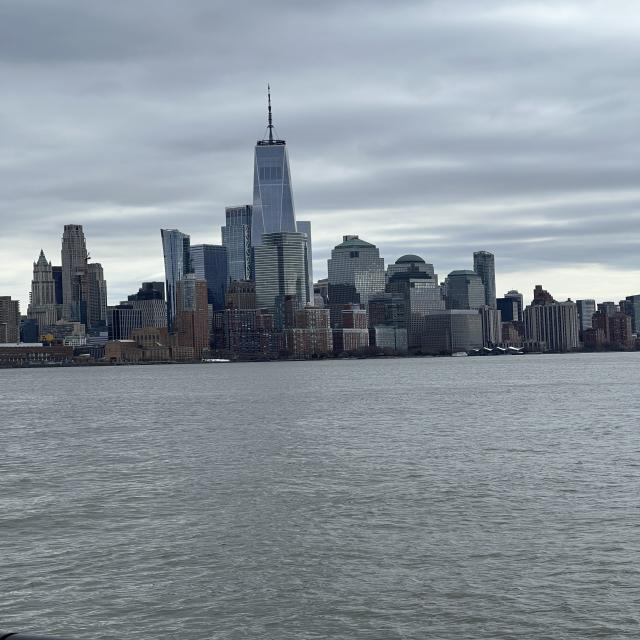WTC: (250, 84, 298, 236)
